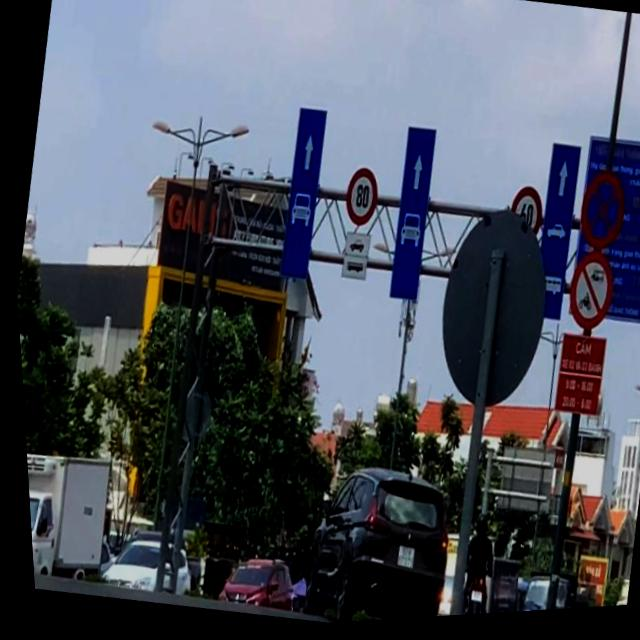Cam dung xe va do xe: (569, 173, 629, 260)
Toc do toi da cho phep: (337, 168, 382, 234), (501, 188, 544, 250)
